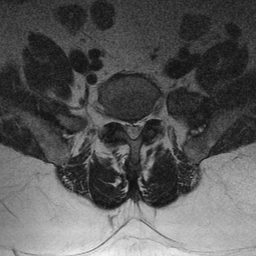CCS_stenosis: (129, 114, 136, 144)
LFS_stenosis: (143, 108, 151, 133)
LLS_normal: (136, 114, 143, 139)
RFS_stenosis: (115, 110, 122, 131)
RLS_normal: (122, 113, 128, 138)
